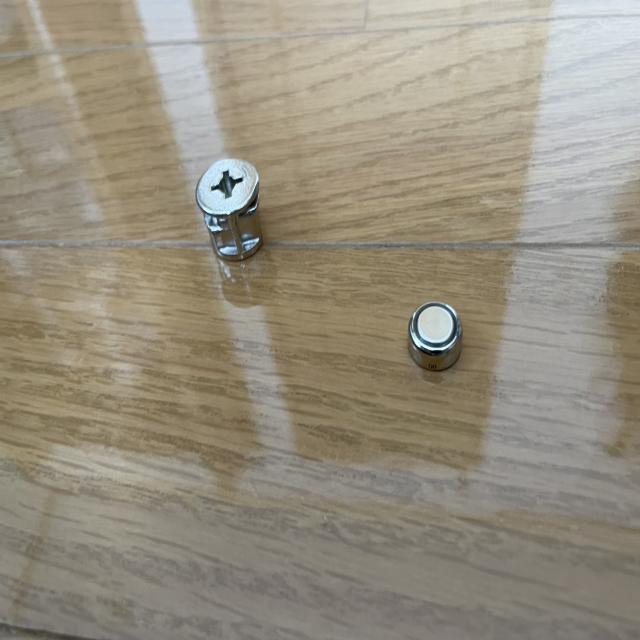COIN: (407, 303, 462, 370)
